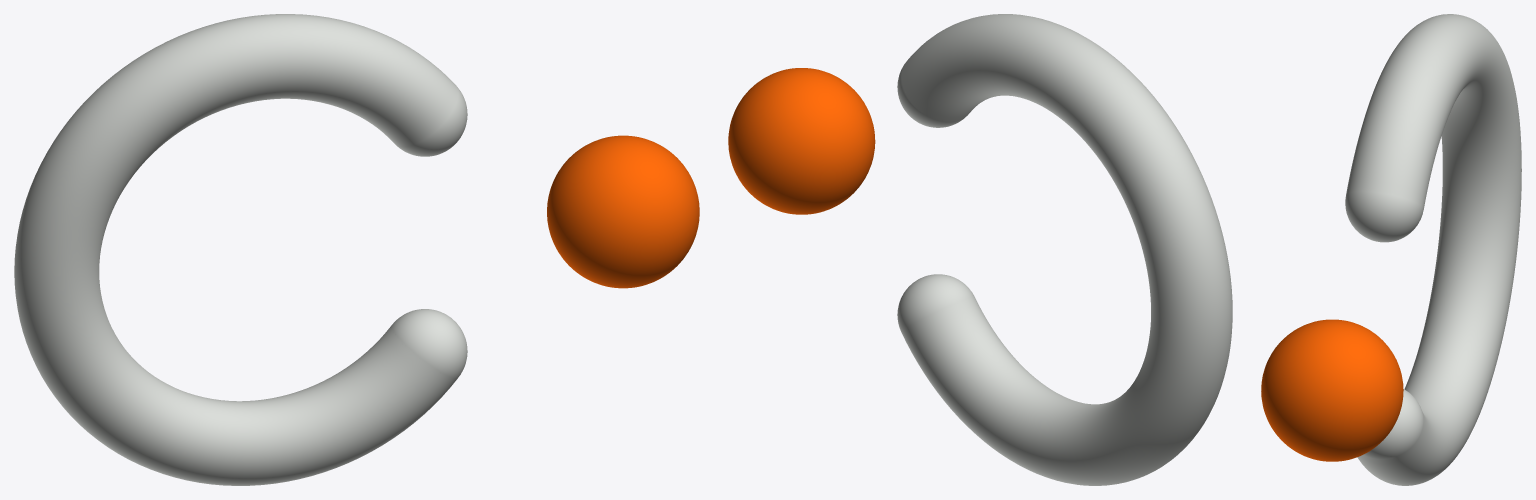
The model's file is career-match.glb.
The picture shows the model from 3 angles, left to right: view 1: azimuth 30°, elevation 25°; view 2: azimuth 150°, elevation 25°; view 3: azimuth 270°, elevation 25°; orthographic projection. The views are drawn at different scales.
Visible parts, largest first — view 1: Ring_C, Match_Dot, Cap_Bottom, Cap_Top; view 2: Ring_C, Match_Dot, Cap_Bottom, Cap_Top; view 3: Ring_C, Match_Dot, Cap_Top, Cap_Bottom.
Boxes of the visible parts, bbox=[...] form: Ring_C: bbox=[14, 14, 458, 485]; Match_Dot: bbox=[547, 135, 699, 288]; Cap_Bottom: bbox=[391, 309, 467, 378]; Cap_Top: bbox=[395, 85, 467, 156]; Ring_C: bbox=[901, 14, 1232, 485]; Match_Dot: bbox=[728, 68, 875, 214]; Cap_Bottom: bbox=[897, 274, 974, 332]; Cap_Top: bbox=[897, 64, 967, 127]; Ring_C: bbox=[1346, 14, 1521, 485]; Match_Dot: bbox=[1261, 319, 1403, 461]; Cap_Top: bbox=[1345, 190, 1423, 242]; Cap_Bottom: bbox=[1363, 389, 1423, 459].
Size of the model in its own units: 3.2 by 2.4 by 1.32.
